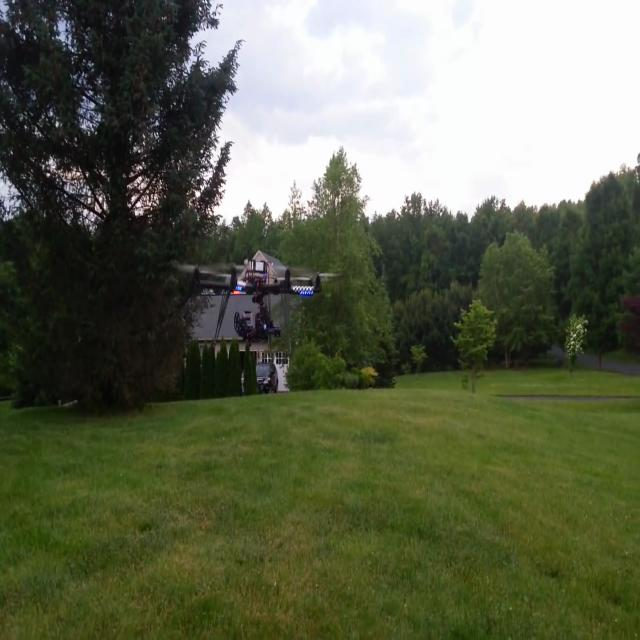drone: (175, 244, 336, 354)
